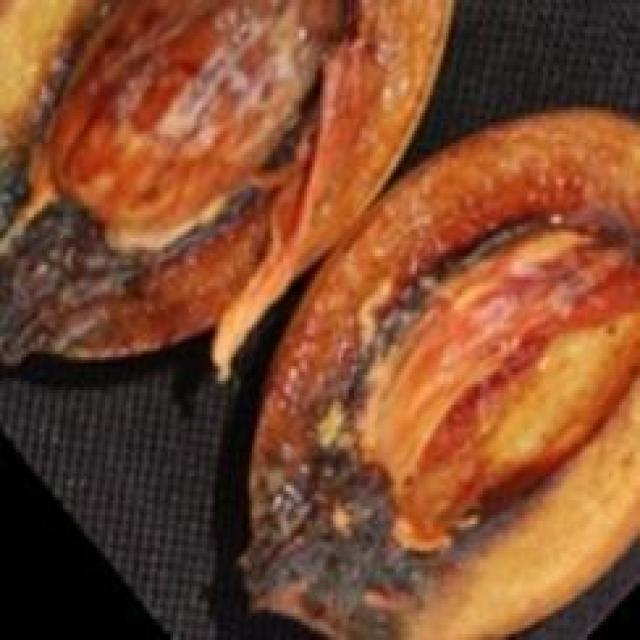damaged: (239, 107, 637, 637)
